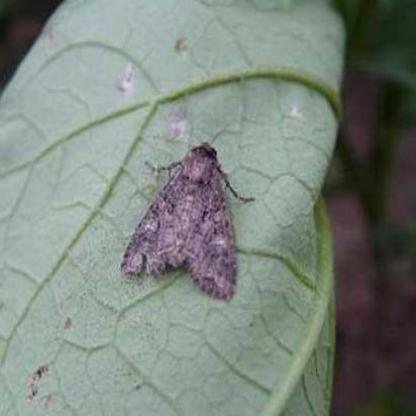armyworm: (121, 136, 257, 302)
